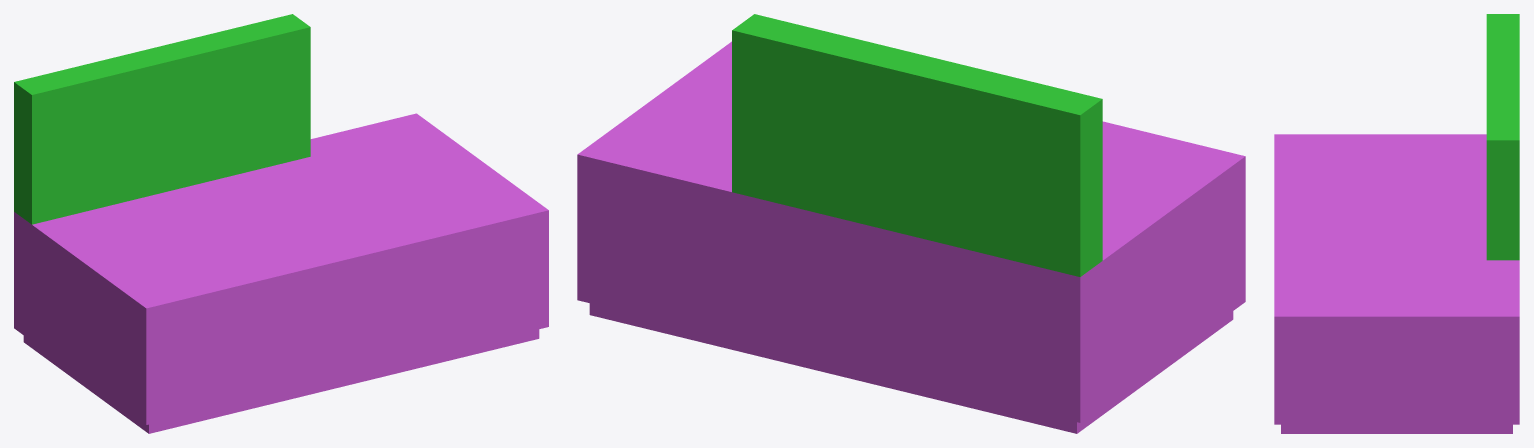
Rendered from sofa.fbx.
3 views of the same model, side by side, from view 1: azimuth 30°, elevation 25°; view 2: azimuth 150°, elevation 25°; view 3: azimuth 270°, elevation 25° (orthographic). The views are drawn at different scales.
Visible parts, largest first — view 1: Model; view 2: Model; view 3: Model.
Boxes of the visible parts, x1,y1,x2,y2 form: Model: [14, 14, 548, 433]; Model: [577, 14, 1245, 433]; Model: [1274, 14, 1519, 433].
Size of the model in its own units: 92.62 by 57 by 52.73.
